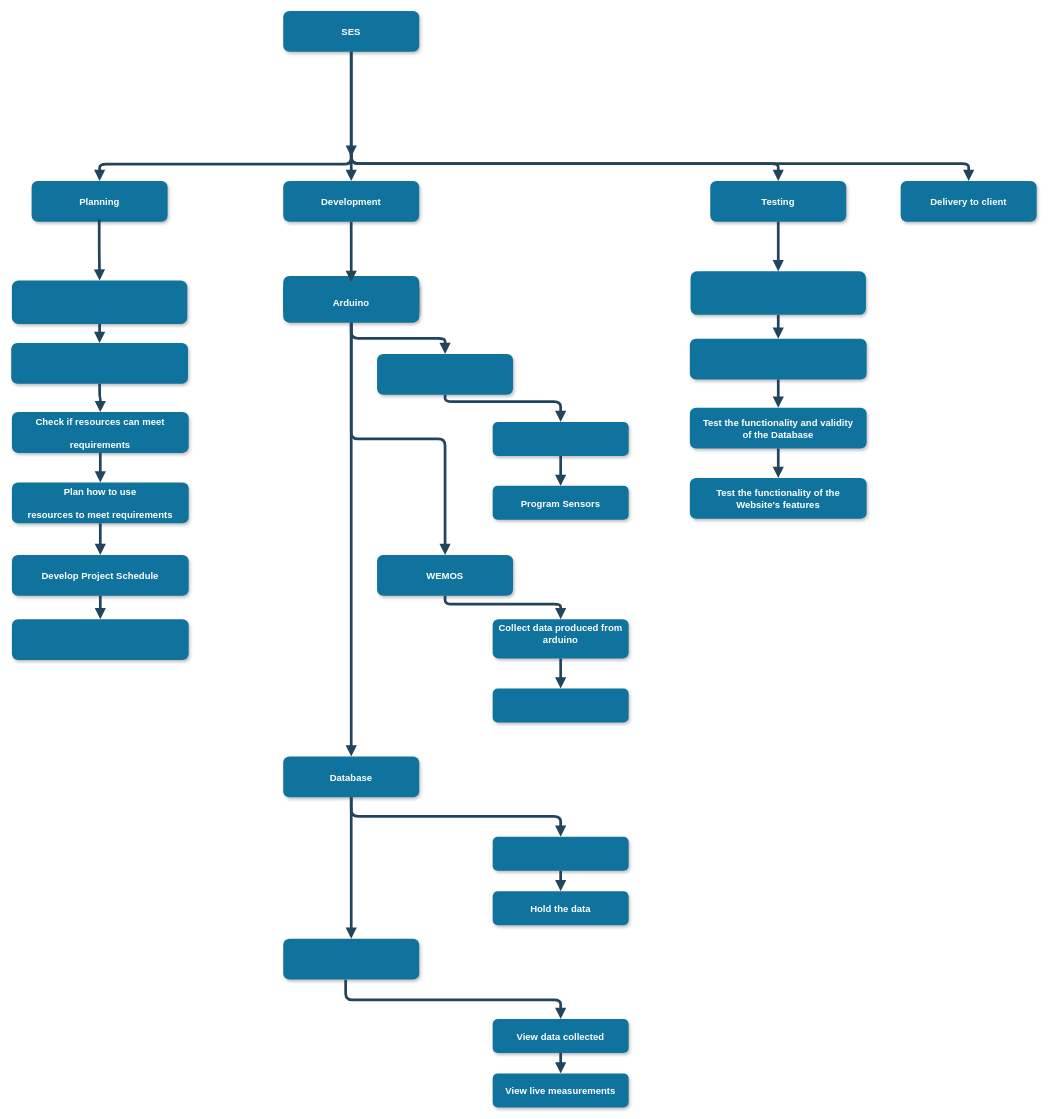
The diagram is 1048 pixels wide and 1119 high, and some of its shapes have lost their labels. Here are the shapes that lost their labels. From the top down, the centre of each, then its label:
the point at 100,302: Breakdown of Requirements
the point at 778,293: Test the functionality of the Arduino UNO
the point at 100,364: Check available resources
the point at 445,375: UNO
the point at 778,360: Test the functionality of the Arduino WEMOS
the point at 561,439: Connect Sensors
the point at 100,640: Approve Project Plan
the point at 561,706: Put data into database
the point at 561,854: Create table and relationships
the point at 351,960: Website
